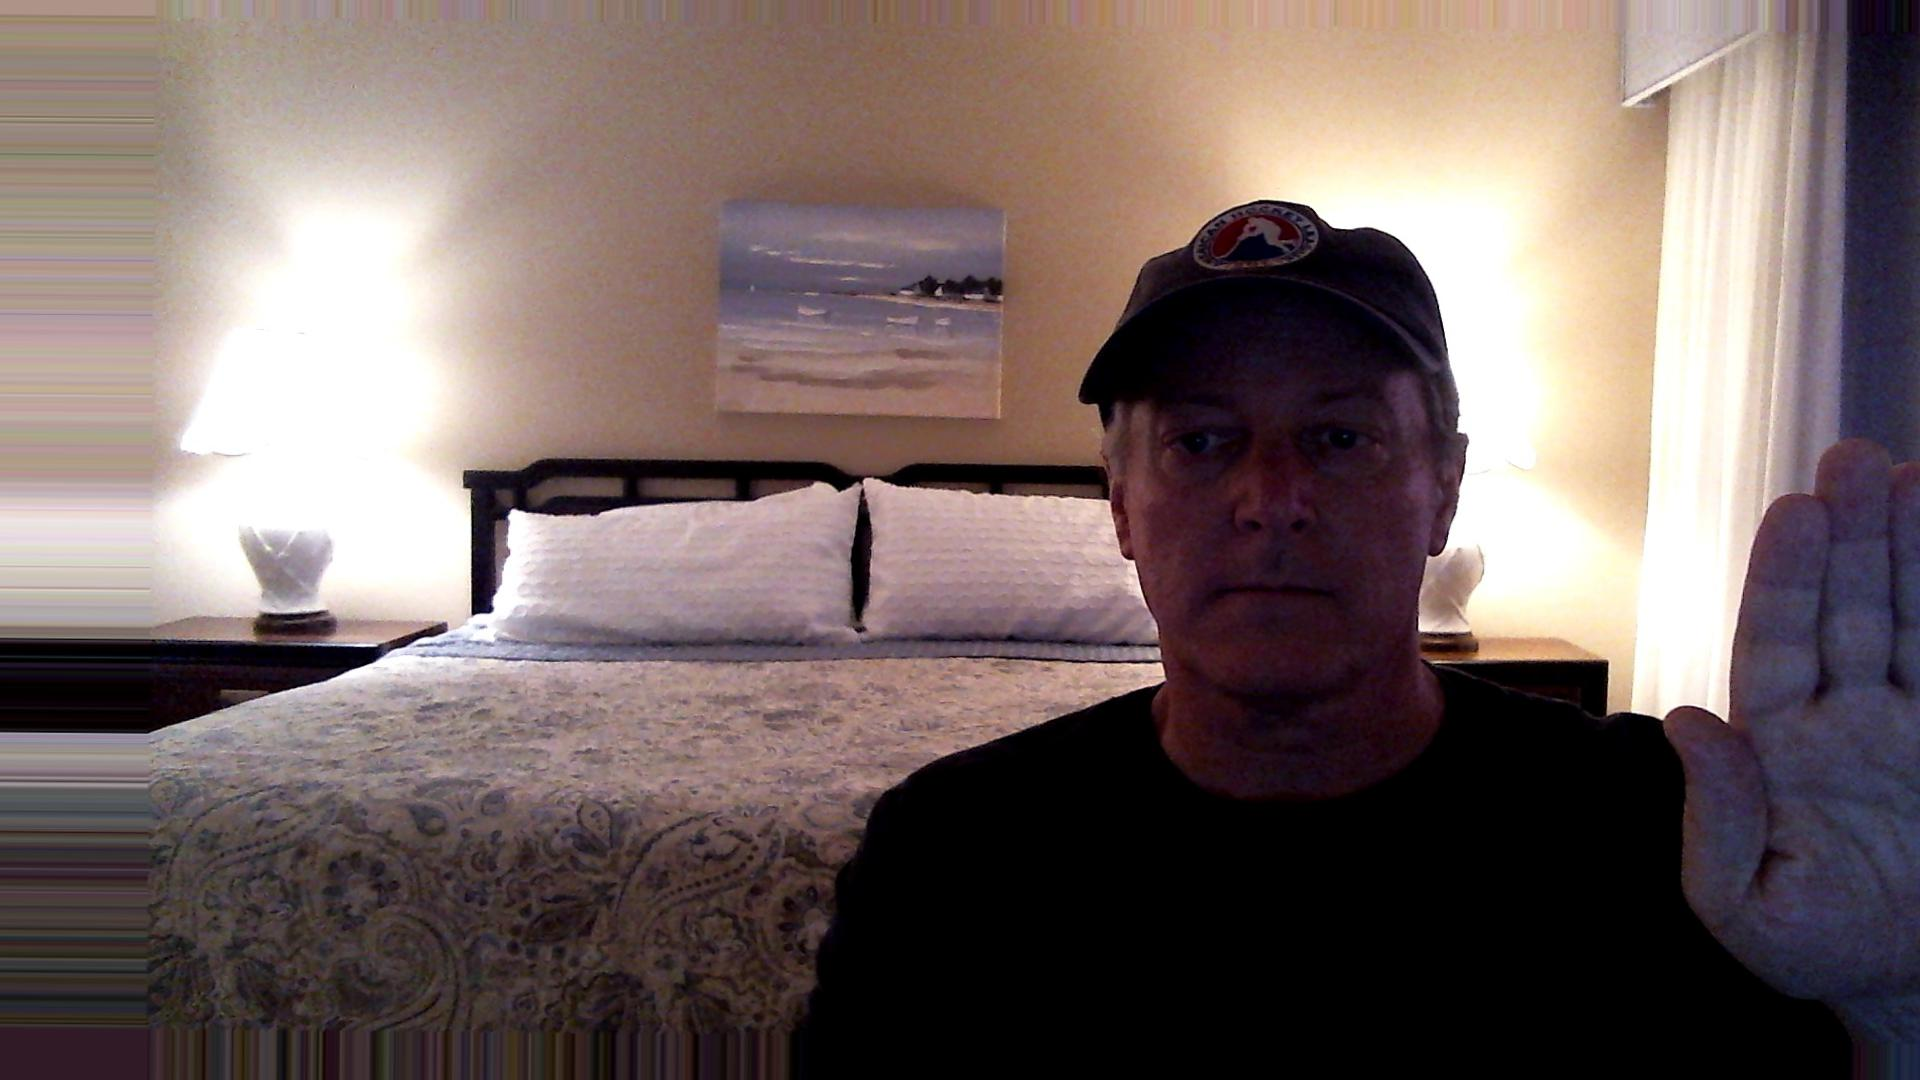Hello: (1644, 411, 1920, 1048)
